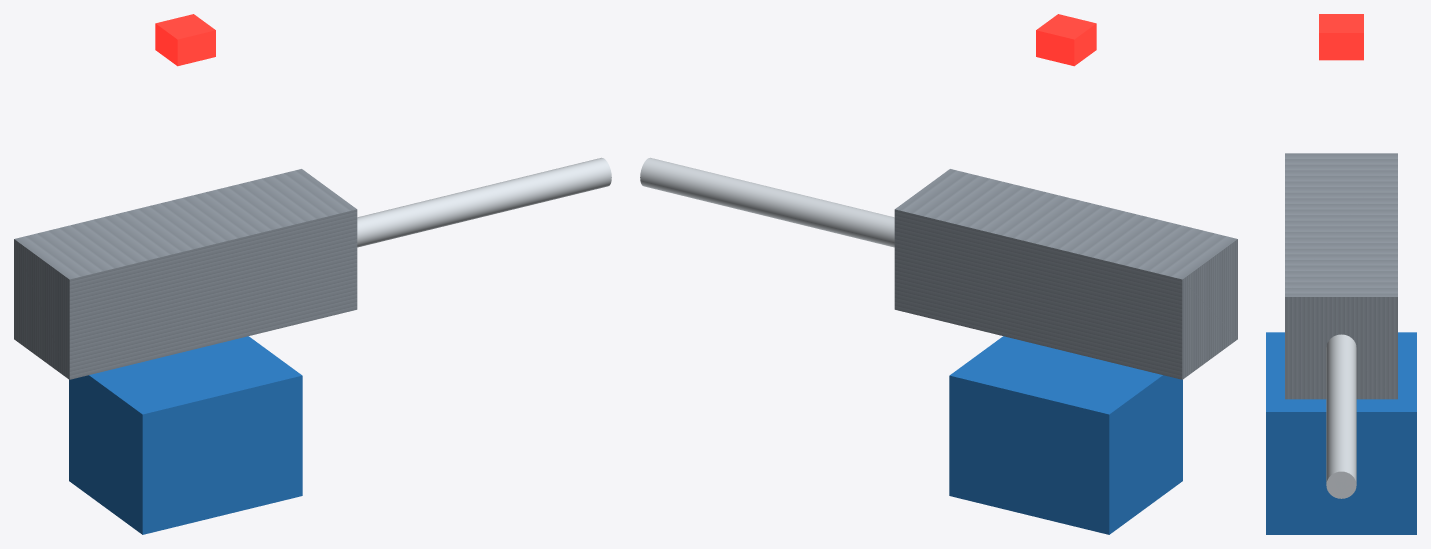
3 views of the same model, side by side, from view 1: azimuth 30°, elevation 25°; view 2: azimuth 150°, elevation 25°; view 3: azimuth 270°, elevation 25° (orthographic). The views are drawn at different scales.
Parts seen in each view (by area): view 1: Body, Mount, Motion, Fault; view 2: Body, Mount, Motion, Fault; view 3: Body, Mount, Motion, Fault.
Boxes of the visible parts, x1,y1,x2,y2 form: Body: (14, 169, 357, 379); Mount: (69, 336, 302, 534); Motion: (357, 157, 611, 247); Fault: (155, 14, 215, 66); Body: (894, 169, 1237, 379); Mount: (949, 336, 1182, 534); Motion: (640, 157, 894, 247); Fault: (1036, 14, 1096, 66); Body: (1285, 153, 1397, 399); Mount: (1266, 332, 1416, 534); Motion: (1326, 334, 1356, 498); Fault: (1319, 14, 1363, 60).
Bounding box in the file's own units: 0.88 × 0.69 × 0.2.
4 materials, 1 textured.
